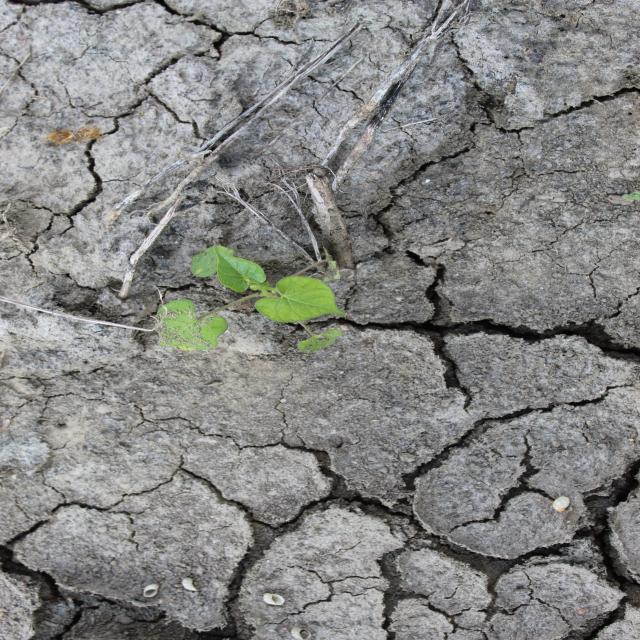MorningGlory: (152, 244, 350, 354)
